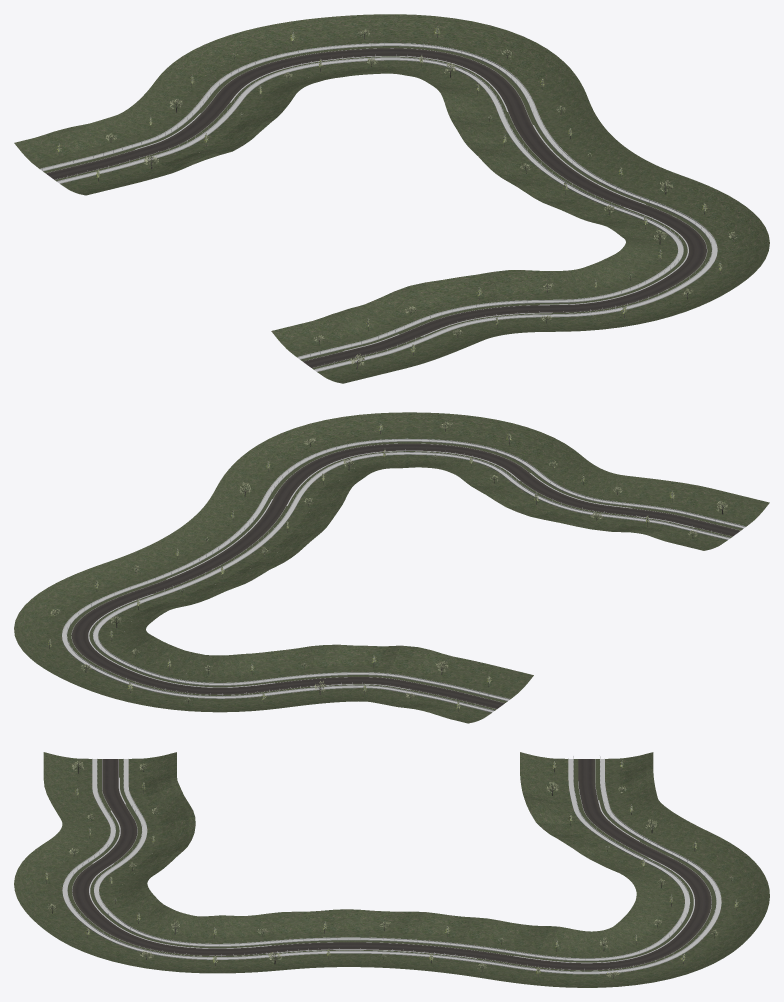
3 renders of one model, top to bottom at view 1: azimuth 30°, elevation 25°; view 2: azimuth 150°, elevation 25°; view 3: azimuth 270°, elevation 25°, orthographic. The views are drawn at different scales.
Parts seen in each view (by area): view 1: Grass, Road, Track, Trees; view 2: Grass, Track, Road, Trees; view 3: Grass, Road, Track, Trees.
Boxes of the visible parts, x1,y1,x2,y2 form: Grass: (14, 14, 769, 383); Road: (46, 48, 706, 367); Track: (40, 42, 717, 371); Trees: (57, 26, 736, 369); Grass: (14, 412, 769, 723); Track: (62, 438, 745, 712); Road: (71, 443, 740, 708); Trees: (48, 421, 727, 711); Grass: (14, 752, 769, 987); Road: (72, 759, 711, 970); Track: (62, 756, 721, 974); Trees: (45, 760, 738, 979).
Size of what is drawn, in the model's own units: 56697 by 2802 by 79365.
